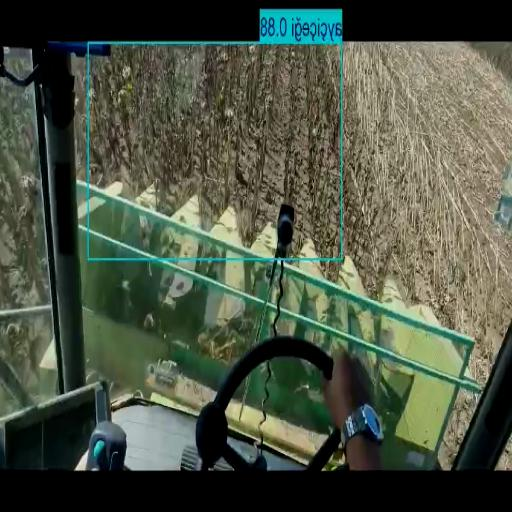ayc: (91, 45, 340, 255)
